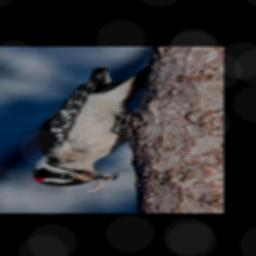Woodpecker: (32, 66, 146, 187)
